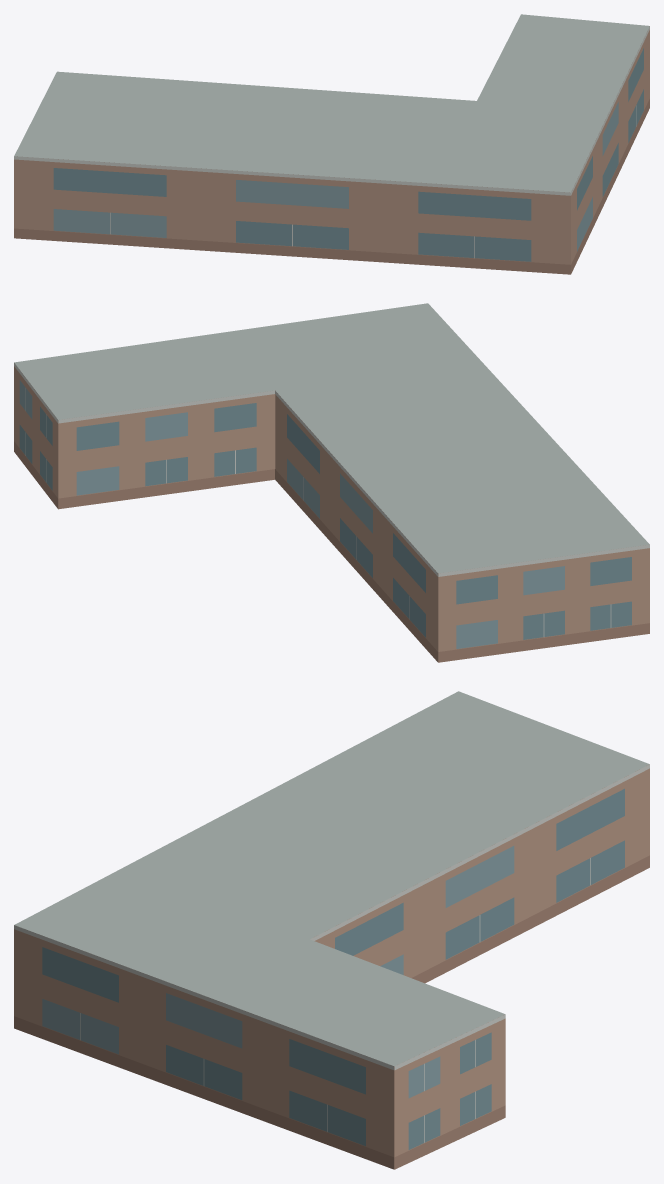
Rendered from survey-upis-32711503.glb.
The picture shows the model from 3 angles, top to bottom: view 1: azimuth 30°, elevation 25°; view 2: azimuth 150°, elevation 25°; view 3: azimuth 270°, elevation 25°; orthographic projection. The views are drawn at different scales.
Visible parts, largest first — view 1: survey-upis-32711503.tmp; view 2: survey-upis-32711503.tmp; view 3: survey-upis-32711503.tmp.
Boxes of the visible parts, bbox=[...] form: survey-upis-32711503.tmp: bbox=[14, 14, 649, 274]; survey-upis-32711503.tmp: bbox=[14, 303, 649, 662]; survey-upis-32711503.tmp: bbox=[14, 691, 649, 1169].
Size of the model in its own units: 47.47 by 6.1 by 34.
